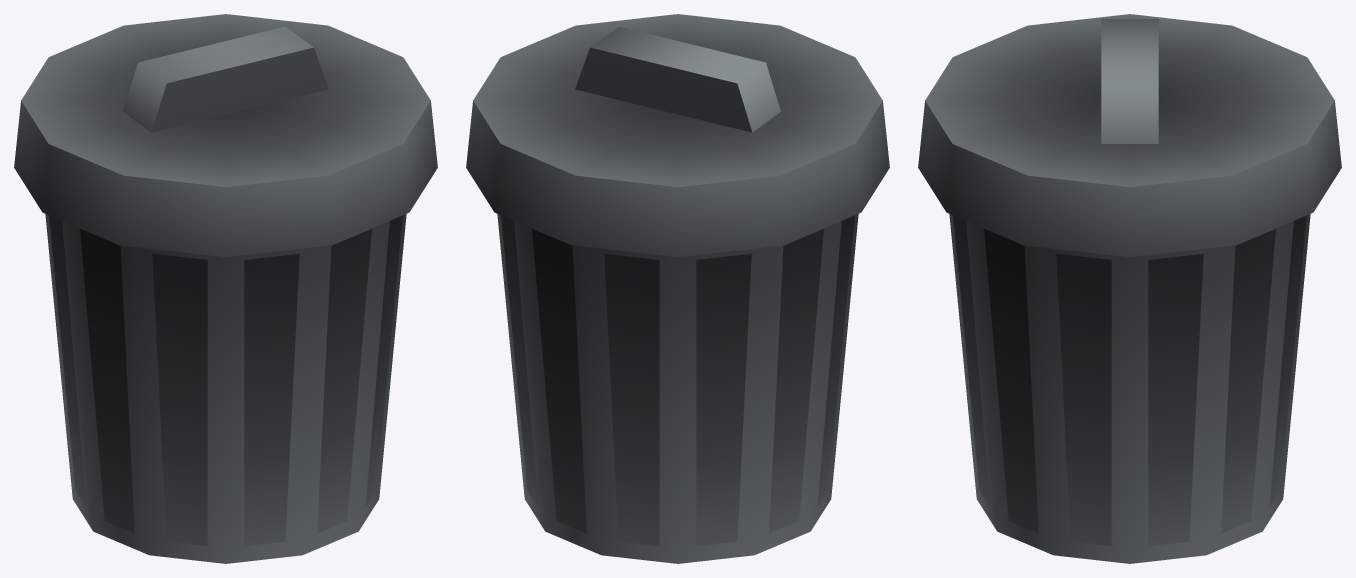
Rendered from Trash_Can_2B.fbx.
3 renders of one model, left to right at view 1: azimuth 30°, elevation 25°; view 2: azimuth 150°, elevation 25°; view 3: azimuth 270°, elevation 25°, orthographic.
Visible parts, largest first — view 1: Trash_Can_2B; view 2: Trash_Can_2B; view 3: Trash_Can_2B.
Part boxes in pixels (<box>): Trash_Can_2B: <box>14,14,437,563</box>; Trash_Can_2B: <box>466,14,889,563</box>; Trash_Can_2B: <box>918,14,1341,563</box>.
Bounding box in the file's own units: 1.28 × 1.48 × 1.28.
